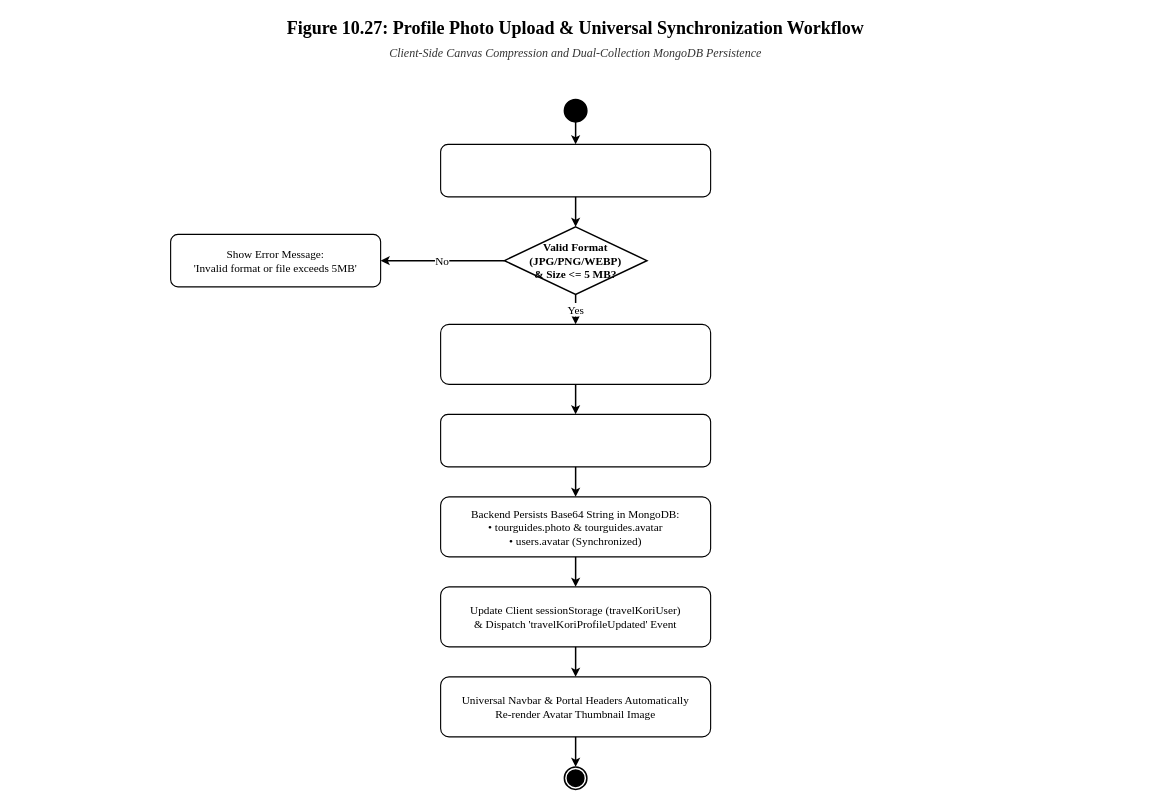
Some shapes in this 1151 by 803 pixel diagram are drawn without their labels. Each missing label, with the centre of its shape:
HTML5 Canvas Resizing & Compression (Max 450x450, 0.85 Quality JPEG Data URI): point 575,354
Trigger PUT /api/guide/profile/:id/photo or PUT /api/users/profile/:id: point 575,440
User Selects Image File via File Picker in my-profile.html or guide-portal.html: point 575,170
